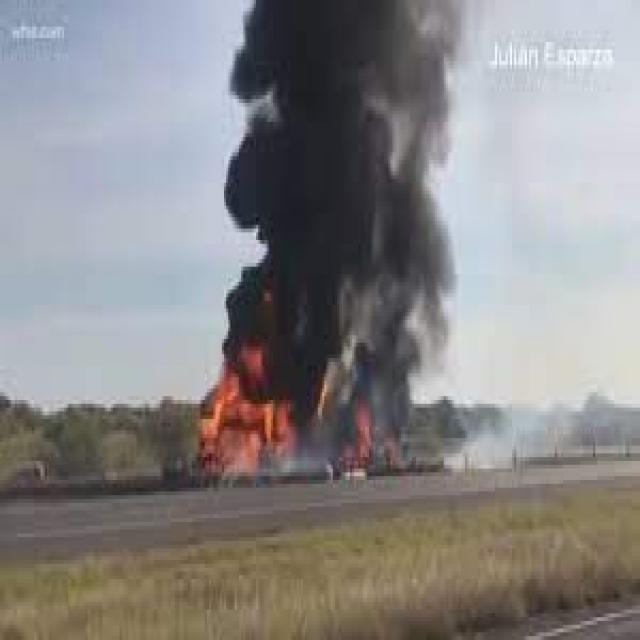fire: (224, 4, 480, 377)
smoke: (292, 381, 446, 472), (448, 381, 591, 461), (199, 381, 290, 488)
